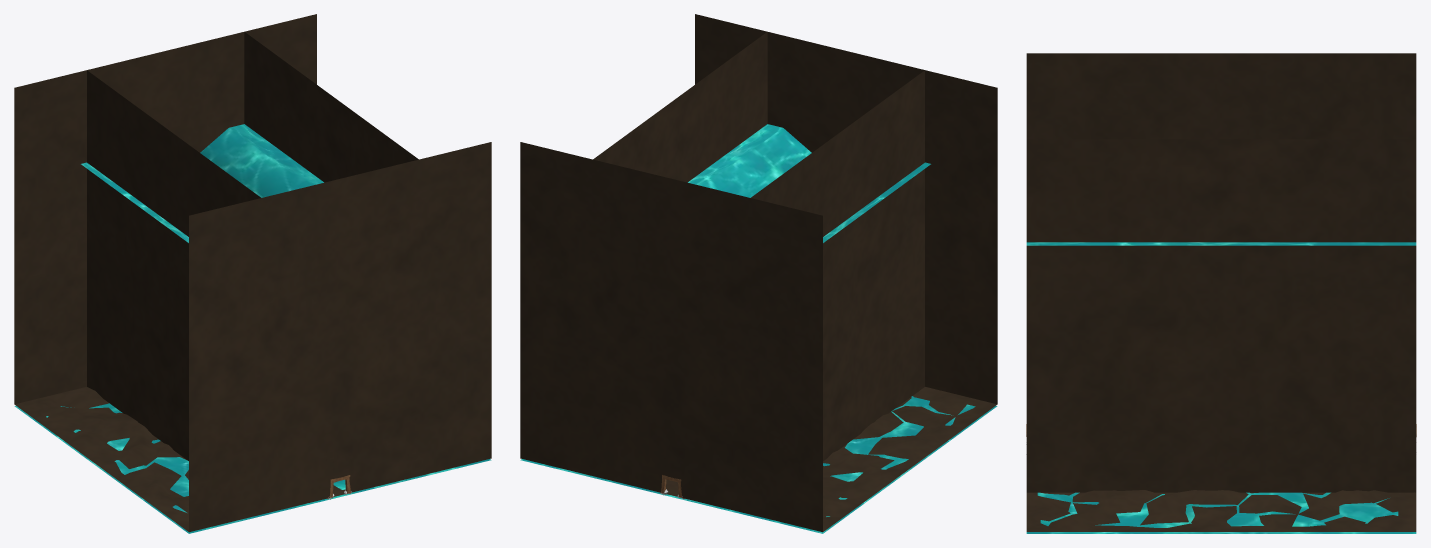
The model's file is Room005.fbx.
The picture shows the model from 3 angles, left to right: view 1: azimuth 30°, elevation 25°; view 2: azimuth 150°, elevation 25°; view 3: azimuth 270°, elevation 25°; orthographic projection. The views are drawn at different scales.
Parts seen in each view (by area): view 1: 4ParedN, 2ParedS, 3ParedSinPuertaE, 1ParedSinPuertaW, 1Suelo.012, Agua.002, Agua, 4Pared.002N, 4Pared.001N, 2Pared.001S, Agua.001; view 2: 2ParedS, 4ParedN, 3ParedSinPuertaE, 1ParedSinPuertaW, 1Suelo.012, Agua.002, Agua, 2Pared.002S, 2Pared.001S, 4Pared.001N, Agua.001; view 3: 1ParedSinPuertaW, 3ParedSinPuertaE, 1Suelo.012, Agua, Agua.002.
Part boxes in pixels (x1,y1,x2,y2): 4ParedN: (189, 142, 491, 516); 2ParedS: (14, 14, 316, 388); 3ParedSinPuertaE: (87, 70, 260, 460); 1ParedSinPuertaW: (244, 32, 418, 182); 1Suelo.012: (14, 387, 346, 531); Agua.002: (200, 124, 323, 197); Agua: (14, 403, 491, 533); 4Pared.002N: (349, 442, 491, 492); 4Pared.001N: (189, 482, 330, 532); 2Pared.001S: (14, 371, 86, 404); Agua.001: (81, 162, 188, 242); 2ParedS: (520, 142, 822, 516); 4ParedN: (695, 14, 997, 388); 3ParedSinPuertaE: (751, 70, 924, 460); 1ParedSinPuertaW: (593, 32, 767, 182); 1Suelo.012: (665, 387, 997, 531); Agua.002: (688, 124, 811, 197); Agua: (520, 396, 997, 533); 2Pared.002S: (520, 442, 661, 492); 2Pared.001S: (681, 482, 822, 532); 4Pared.001N: (925, 371, 997, 404); Agua.001: (823, 162, 930, 242); 1ParedSinPuertaW: (1026, 139, 1416, 492); 3ParedSinPuertaE: (1026, 53, 1416, 139); 1Suelo.012: (1026, 490, 1416, 531); Agua: (1026, 492, 1416, 533); Agua.002: (1026, 242, 1416, 245).
Bounding box in the file's own units: 9600 × 9693 × 9608.
